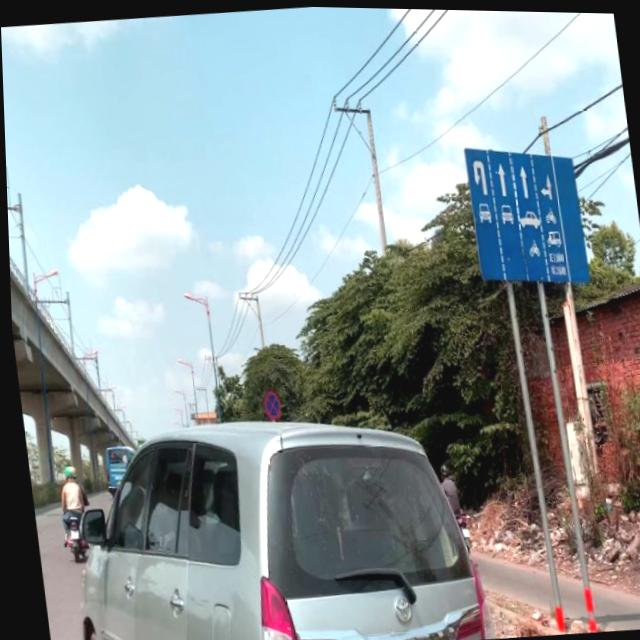Cam dung xe va do xe: (259, 387, 280, 420)
